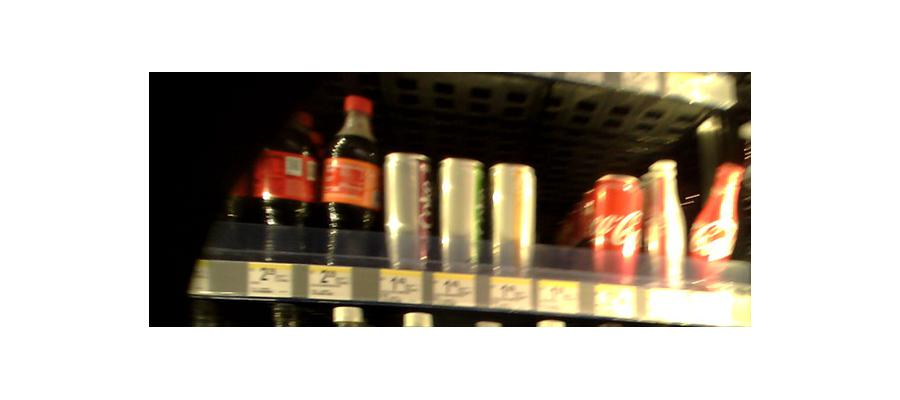bottle: (325, 91, 378, 262), (259, 109, 317, 258), (691, 157, 744, 288), (381, 149, 432, 272), (643, 156, 690, 289), (435, 156, 485, 277), (594, 169, 645, 281), (488, 162, 538, 276)
